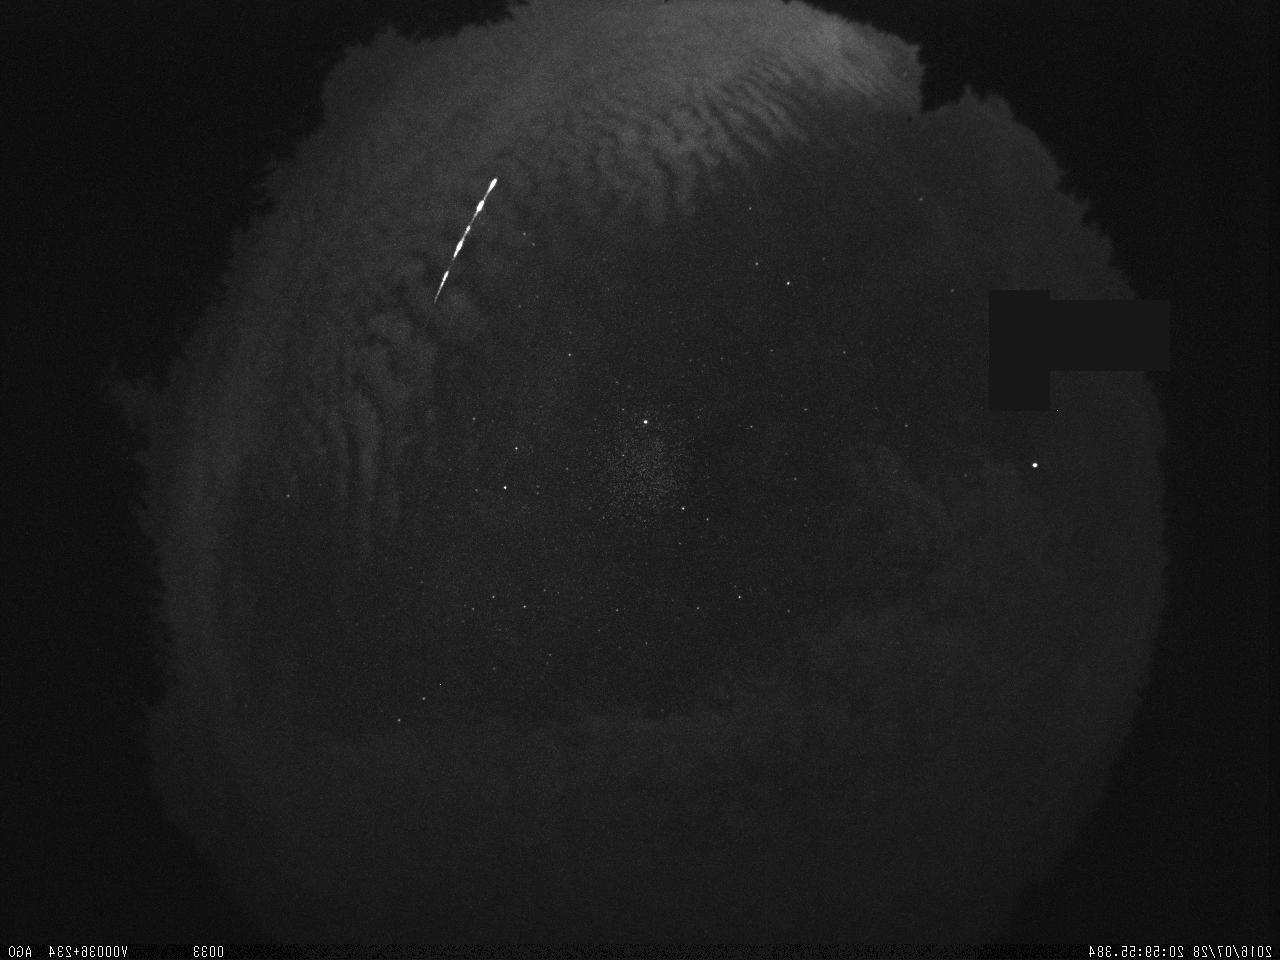meteor: (408, 157, 539, 307)
